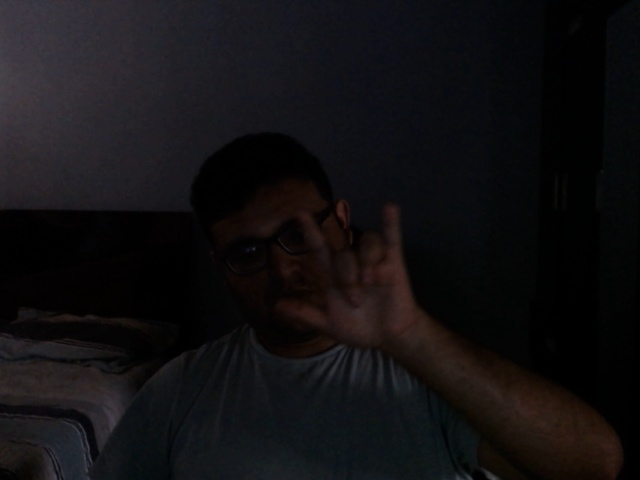I love you: (268, 208, 442, 357)
